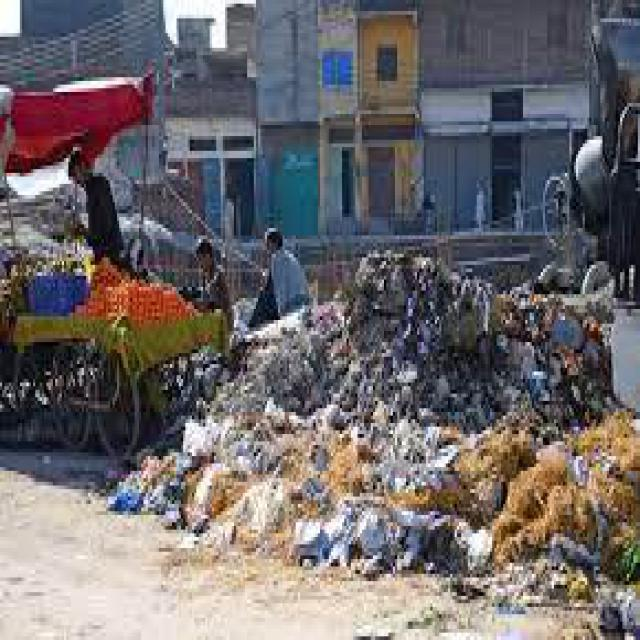garbage: (190, 264, 638, 622)
